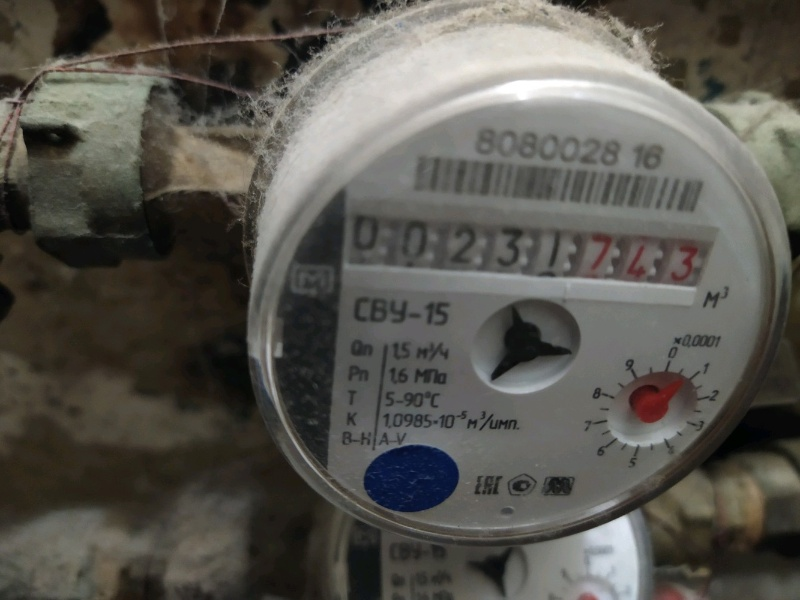meter: (335, 196, 693, 304)
